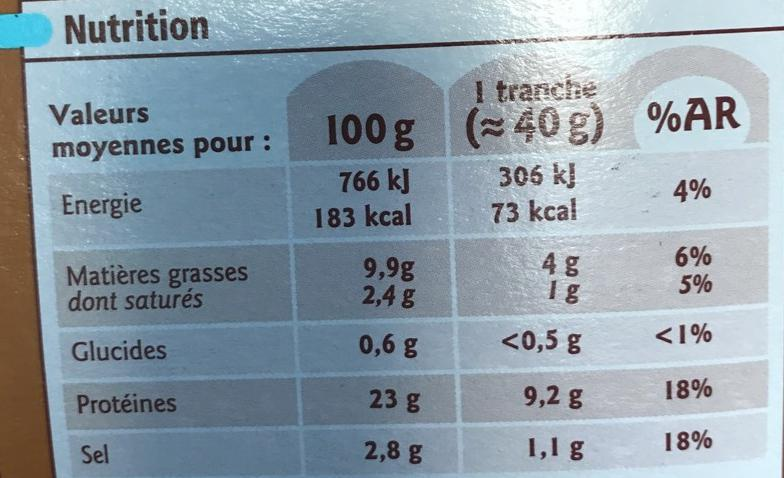column: (52, 97, 272, 462), (468, 79, 606, 464), (316, 112, 420, 464), (645, 93, 741, 455)
line: (48, 81, 741, 148), (58, 171, 715, 223), (71, 324, 714, 355), (79, 437, 714, 461), (69, 386, 717, 408), (65, 257, 713, 276), (65, 287, 713, 304)
table: (51, 66, 763, 472)
